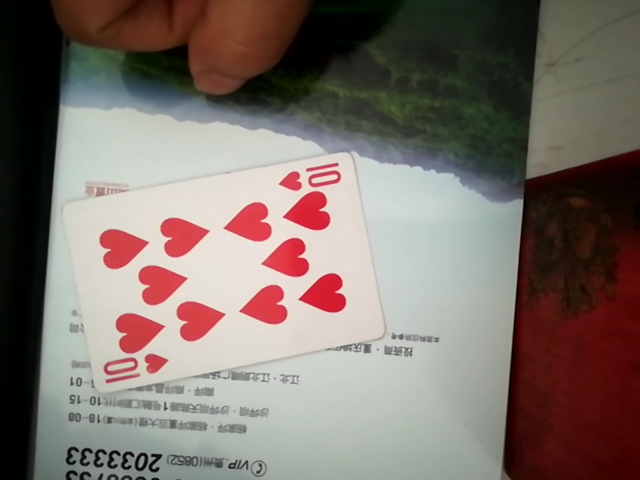hx 10: (61, 147, 384, 399)
